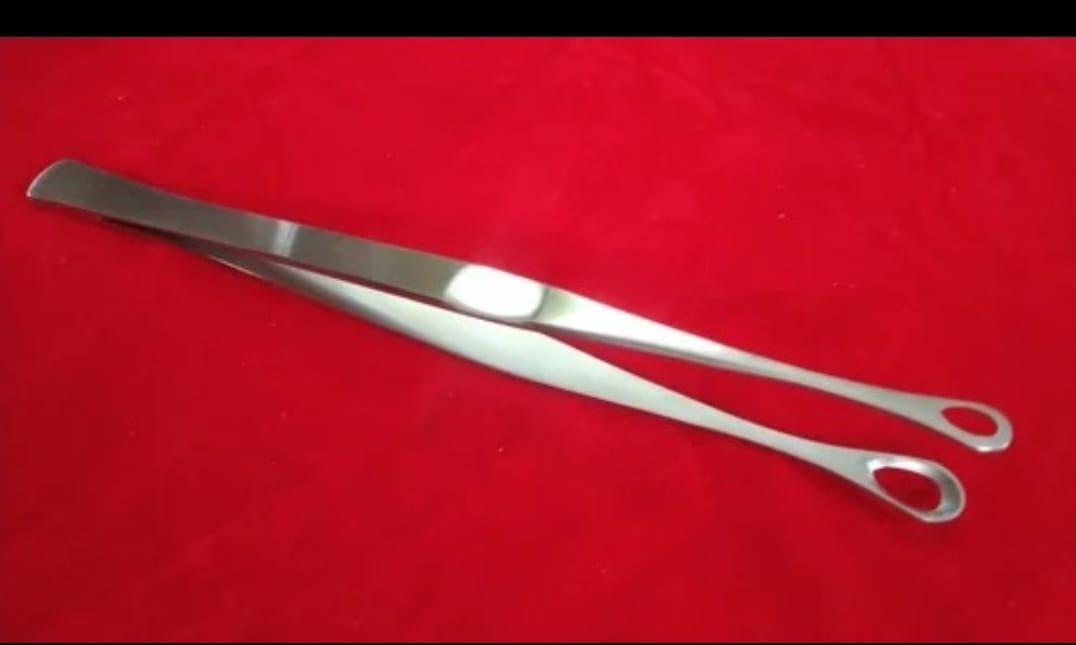Eye Intestinal Forceps: (21, 145, 1022, 532)
